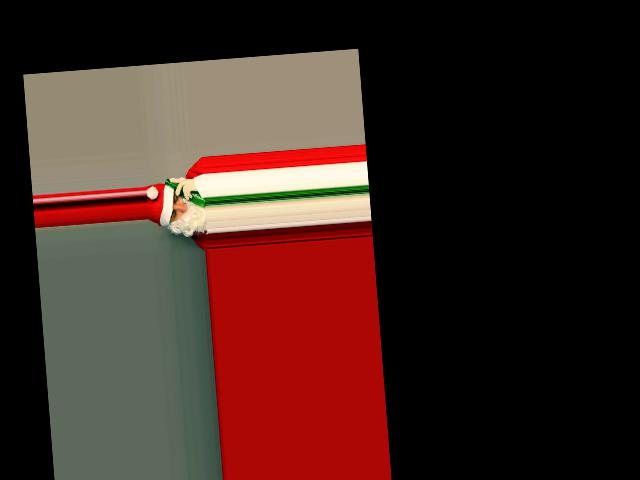beer: (165, 175, 206, 209)
